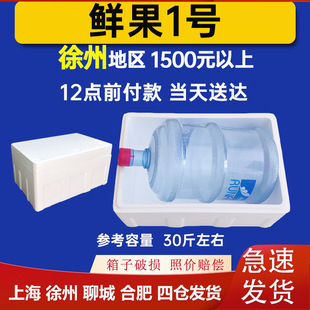泡沫箱: (112, 113, 290, 227), (11, 133, 112, 210)
